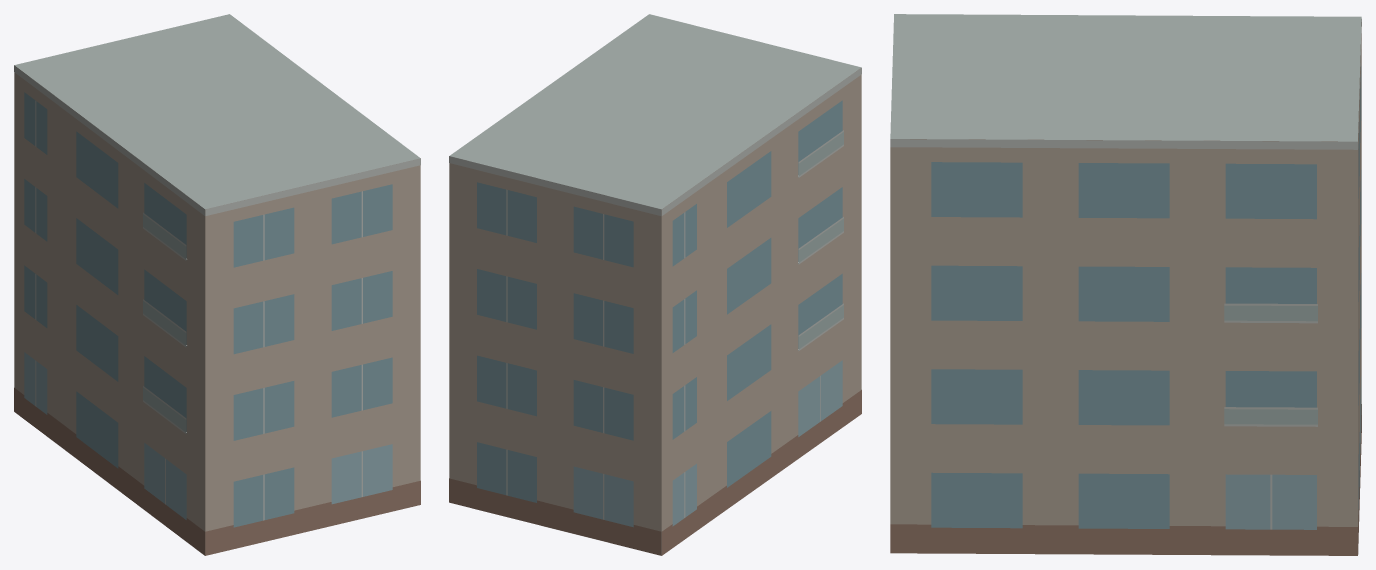
File: residential-9d7d35ca-ae5d-431d-868a-d7cba20b25cf.glb
The picture shows the model from 3 angles, left to right: view 1: azimuth 30°, elevation 25°; view 2: azimuth 150°, elevation 25°; view 3: azimuth 270°, elevation 25°; orthographic projection. The views are drawn at different scales.
Visible parts, largest first — view 1: residential-9d7d35ca-ae5d-431d-868a-d7cba20b25cf.tmp; view 2: residential-9d7d35ca-ae5d-431d-868a-d7cba20b25cf.tmp; view 3: residential-9d7d35ca-ae5d-431d-868a-d7cba20b25cf.tmp.
Part boxes in pixels (left/top/right/bottom): residential-9d7d35ca-ae5d-431d-868a-d7cba20b25cf.tmp: left=14, top=14, right=420, bottom=555; residential-9d7d35ca-ae5d-431d-868a-d7cba20b25cf.tmp: left=449, top=14, right=861, bottom=555; residential-9d7d35ca-ae5d-431d-868a-d7cba20b25cf.tmp: left=890, top=14, right=1361, bottom=555.
Bounding box in the file's own units: 8.1 × 12.2 × 12.59.
